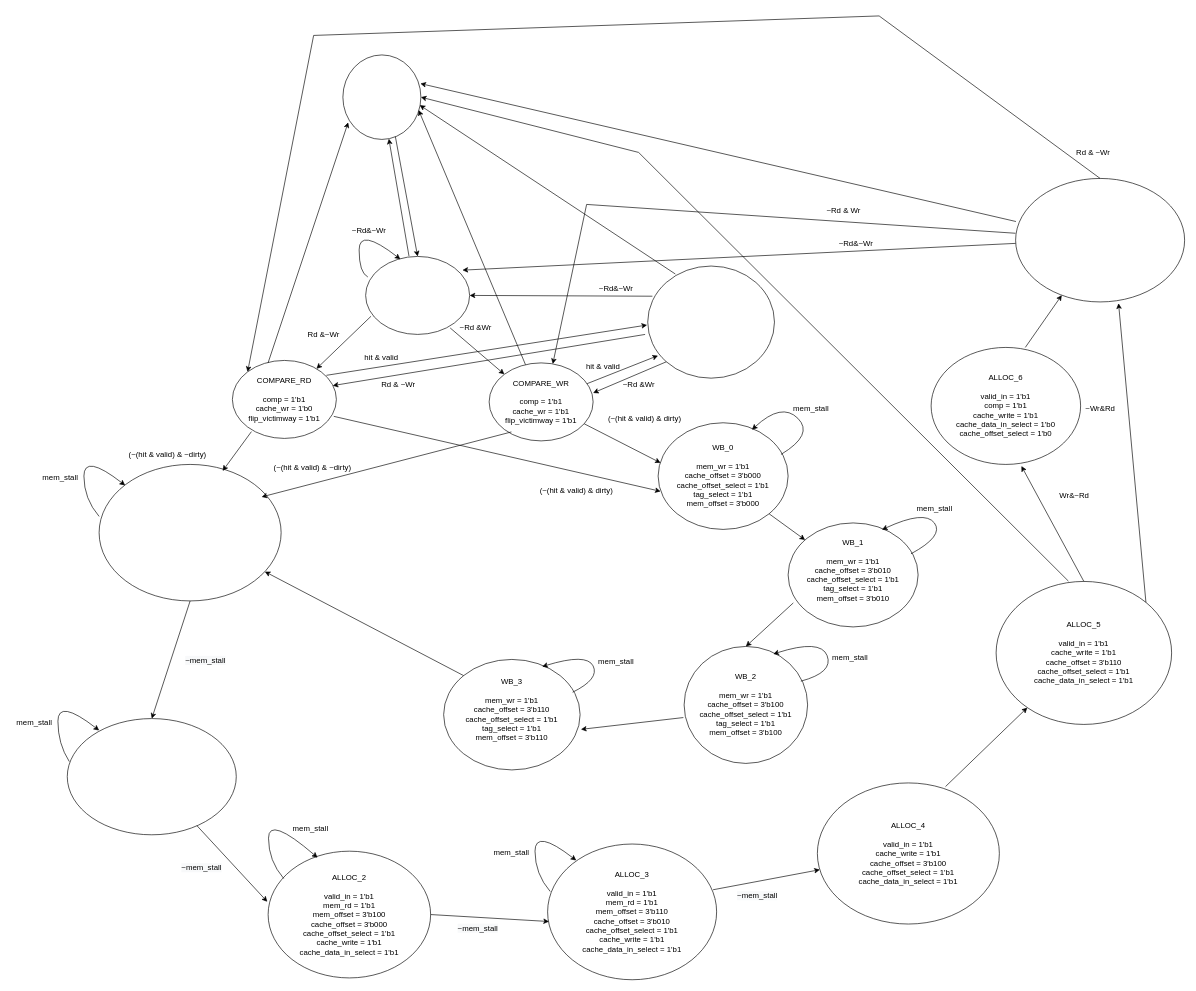
This 1196x991 diagram has some shape labels left out. The shapes that lost their labels are listed below. From the top down, each one's centre as x and y in pixels, then its label:
At pixel 381 96: "ERROR err = 1'b1".
At pixel 1100 240: "MISS_DONE done = 1'b1".
At pixel 417 295: "IDLE stall_out = 1'b0".
At pixel 710 321: "HIT_DONE done = 1'b1 cache_hit = 1'b1".
At pixel 189 532: "ALLOC_0 mem_rd = 1'b1 mem_offset = 3'b000".
At pixel 151 776: "ALLOC_1 mem_rd = 1'b1 mem_offset = 3'b010".
